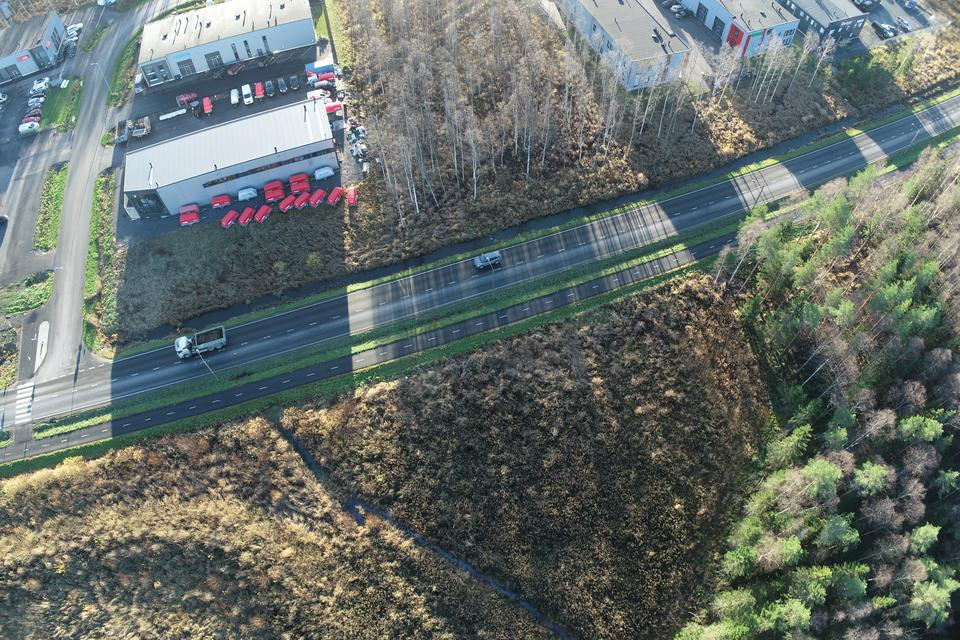intersection: (0, 324, 141, 507)
